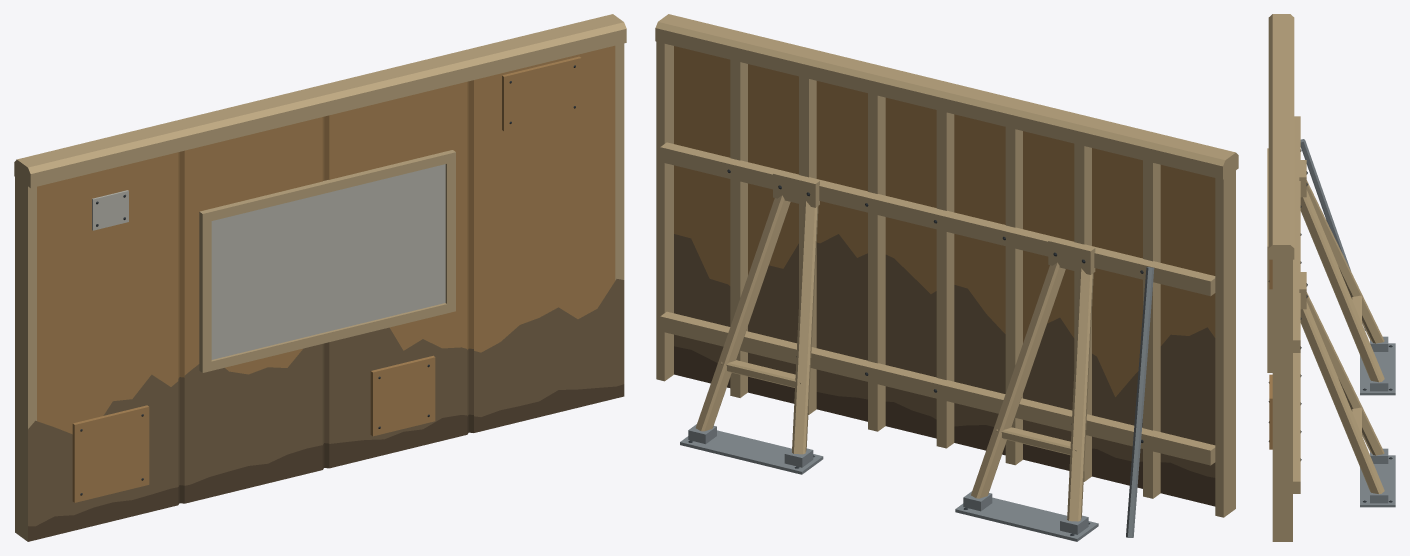
Rendered from site-hoarding-run-0273b4.glb.
The picture shows the model from 3 angles, left to right: view 1: azimuth 30°, elevation 25°; view 2: azimuth 150°, elevation 25°; view 3: azimuth 270°, elevation 25°; orthographic projection. The views are drawn at different scales.
Parts seen in each view (by area): view 1: hoarding-bay; view 2: hoarding-bay; view 3: hoarding-bay.
Boxes of the visible parts, x1=… form: hoarding-bay: x1=14, y1=14, x2=626, y2=541; hoarding-bay: x1=655, y1=14, x2=1238, y2=541; hoarding-bay: x1=1267, y1=14, x2=1395, y2=541.
Size of the model in its own units: 4 by 2.4 by 0.938.
